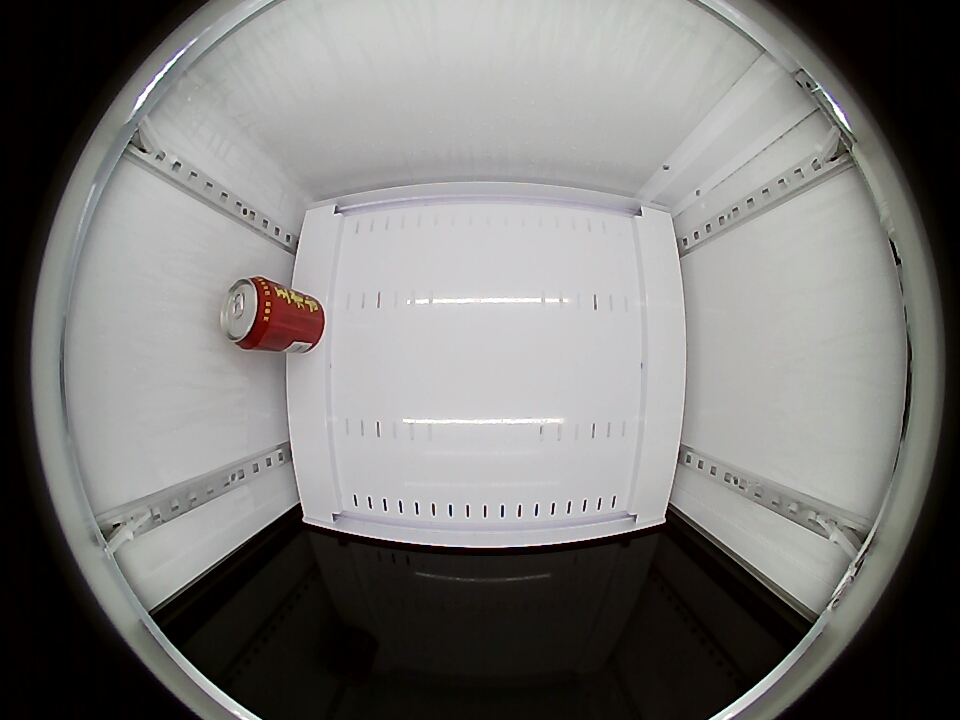wanglaoji-c: (220, 276, 279, 350)
